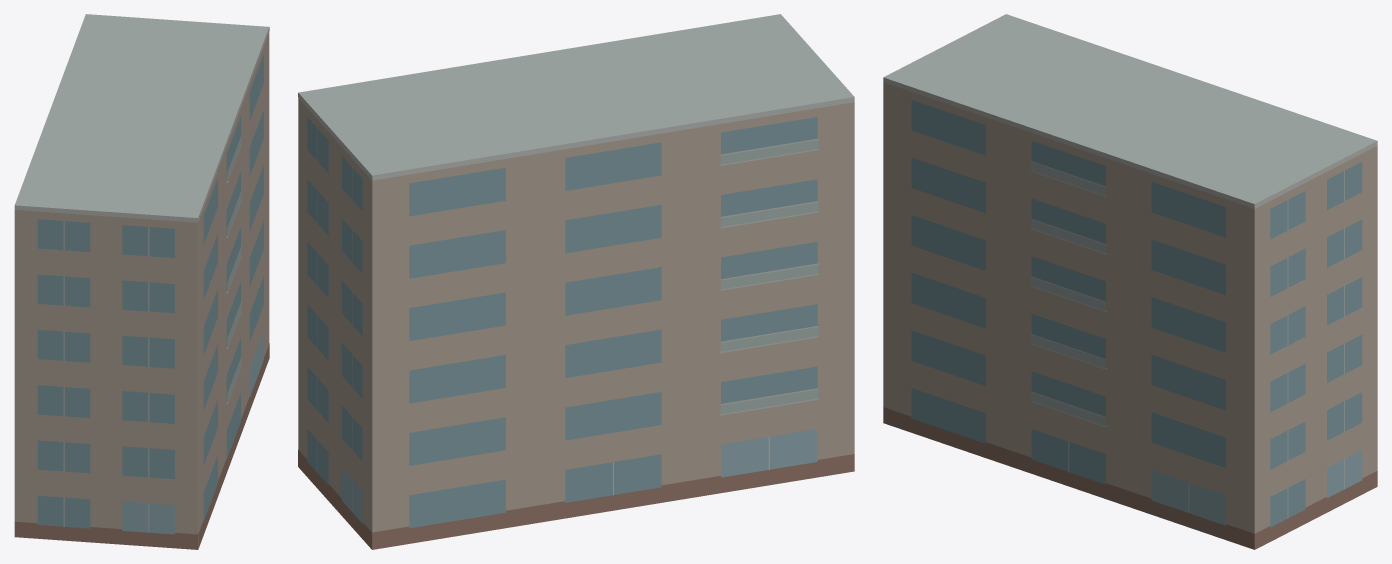
Rendered from survey-upis-32675099.glb.
3 renders of one model, left to right at view 1: azimuth 30°, elevation 25°; view 2: azimuth 150°, elevation 25°; view 3: azimuth 270°, elevation 25°, orthographic. The views are drawn at different scales.
Visible parts, largest first — view 1: survey-upis-32675099.tmp; view 2: survey-upis-32675099.tmp; view 3: survey-upis-32675099.tmp.
Boxes of the visible parts, <box> form: survey-upis-32675099.tmp: <box>14,14,269,549</box>; survey-upis-32675099.tmp: <box>298,14,854,549</box>; survey-upis-32675099.tmp: <box>883,14,1377,549</box>.
Bounding box in the file's own units: 20.95 × 17.75 × 23.02.
